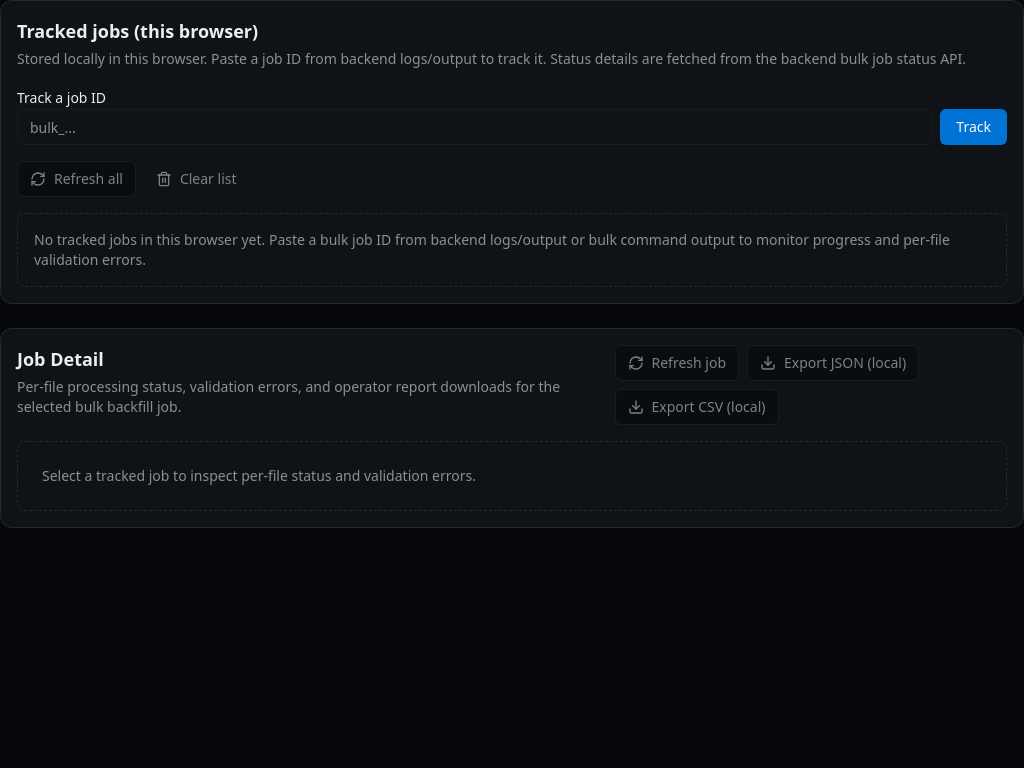
AdminBulkBackfillMonitor › renders empty-result jobs, shows activateLatest false, and refreshes the selected job
Later steps or results of the test are not shown.
Type "bulk_empty" into the field labelled "Track a job ID" at (475, 127), box [17, 109, 932, 145]
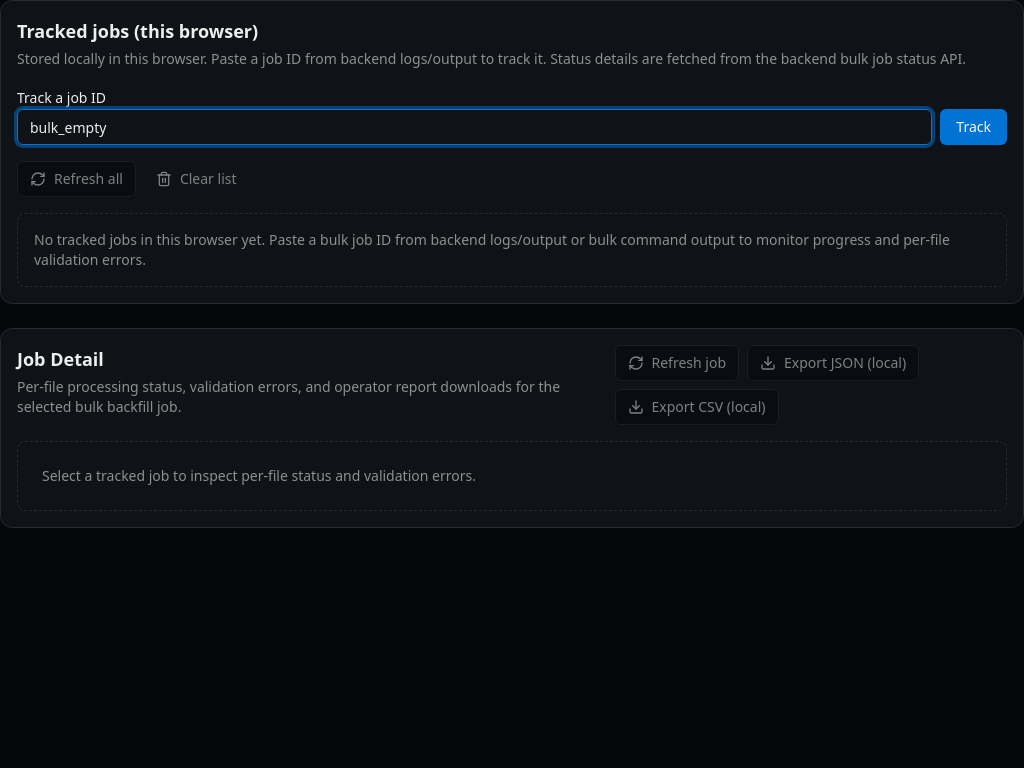
Click the button "Track" at (974, 127), box [940, 109, 1007, 145]
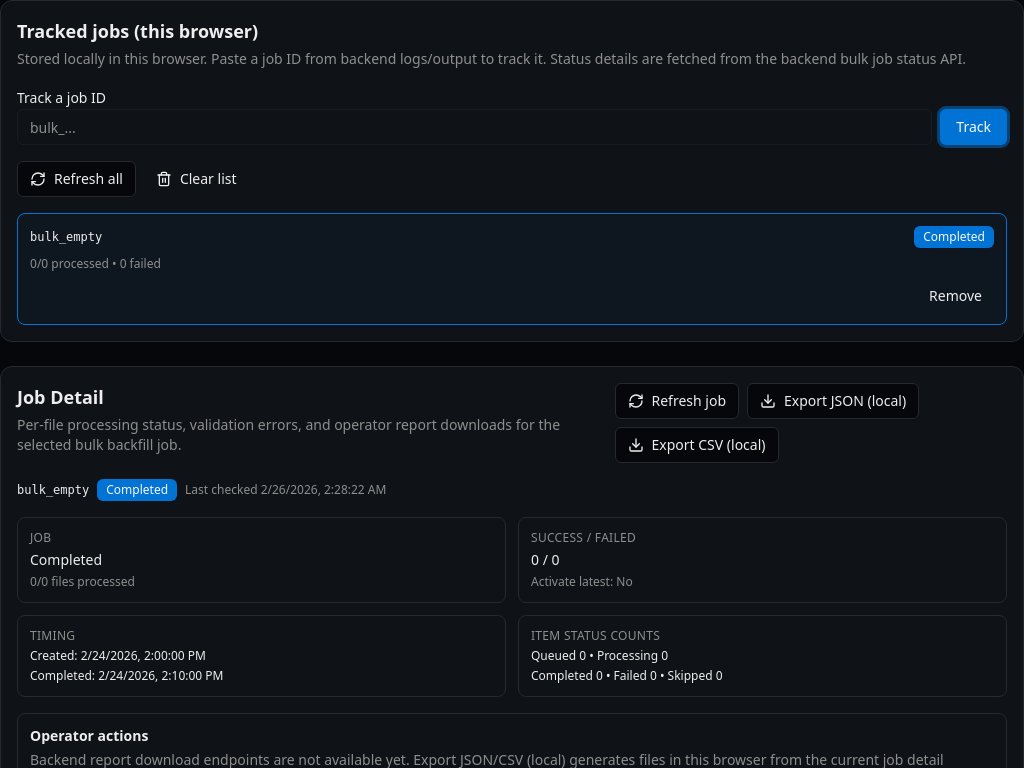
Check: the text "Activate latest: No" is shown, box [531, 573, 633, 590]
